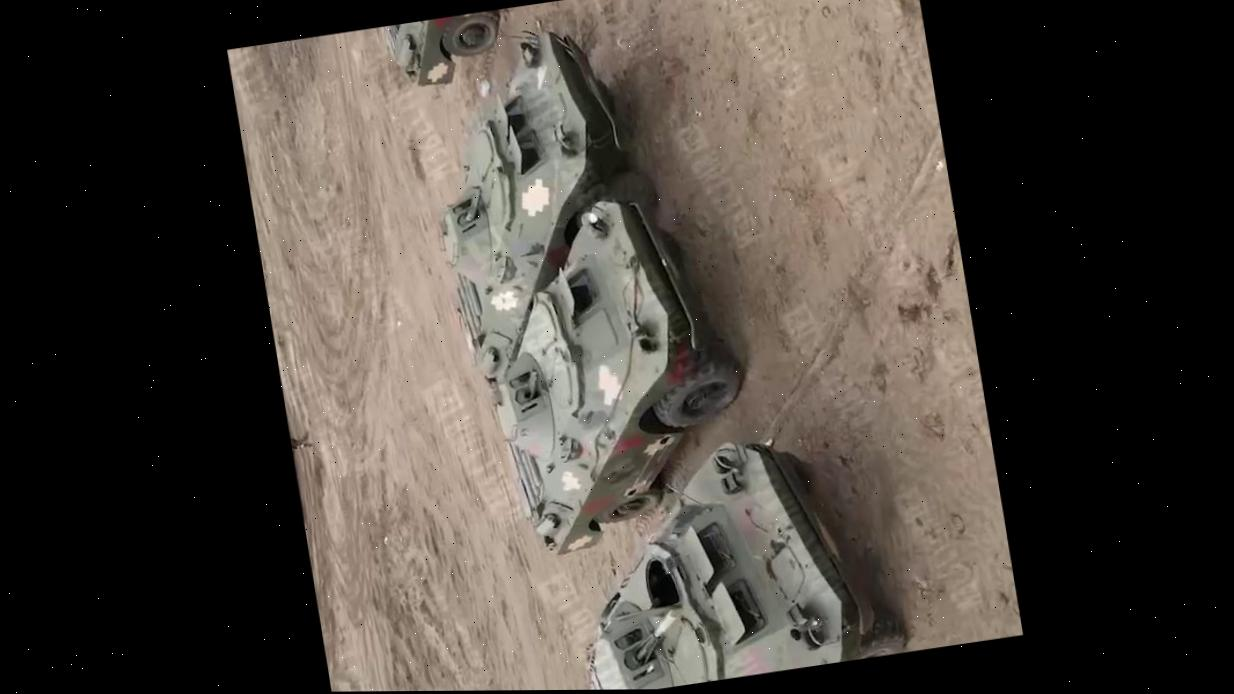tank: (461, 182, 769, 561), (547, 417, 915, 690), (403, 17, 671, 389), (365, 0, 576, 97)
